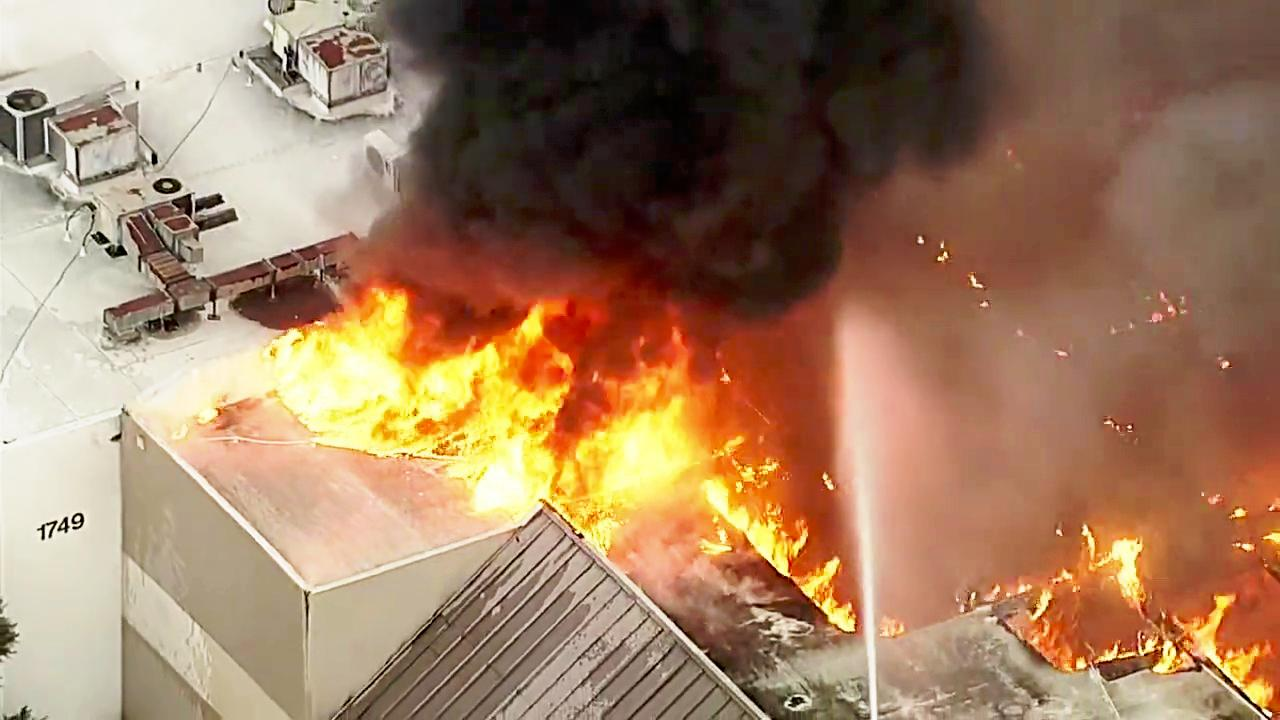fire: (423, 304, 595, 490), (1062, 507, 1280, 651), (550, 327, 725, 503), (294, 282, 425, 428)
smoke: (403, 0, 814, 305)
